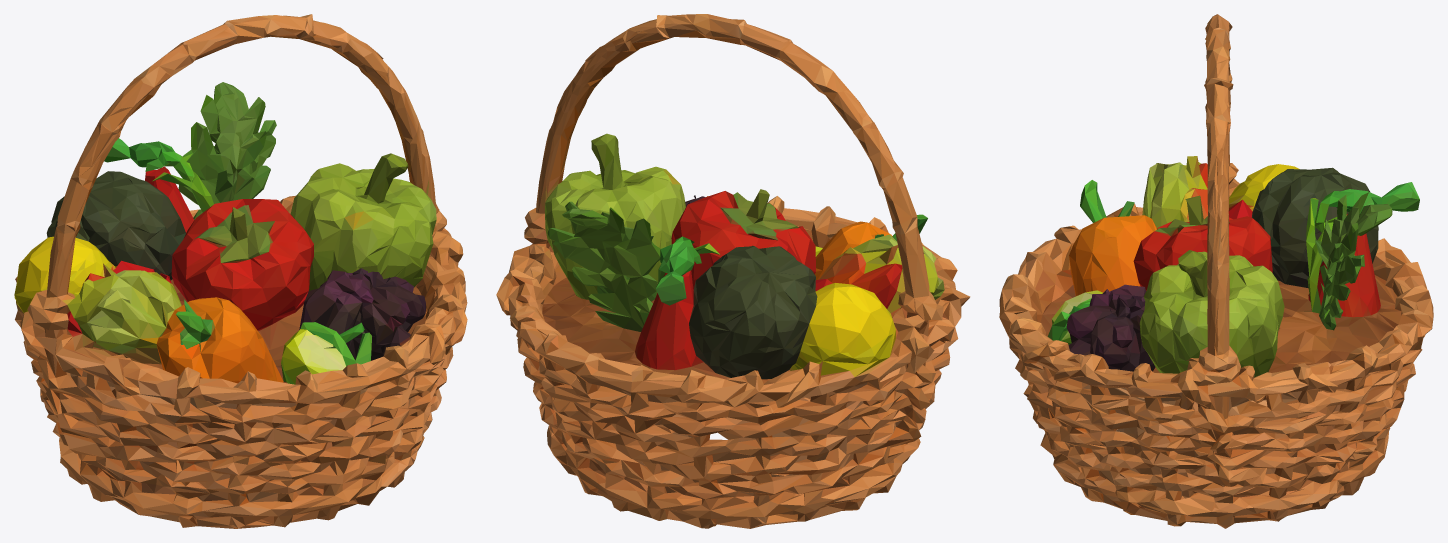
The model's file is basket.glb.
3 renders of one model, left to right at view 1: azimuth 30°, elevation 25°; view 2: azimuth 150°, elevation 25°; view 3: azimuth 270°, elevation 25°, orthographic. The views are drawn at different scales.
Visible parts, largest first — view 1: geometry_0; view 2: geometry_0; view 3: geometry_0.
Part boxes in pixels (x1,y1,x2,y2): geometry_0: [14, 14, 467, 528]; geometry_0: [496, 14, 970, 528]; geometry_0: [999, 14, 1433, 528].
Bounding box in the file's own units: 0.2934 × 0.3 × 0.275.
1 material, 1 textured.
